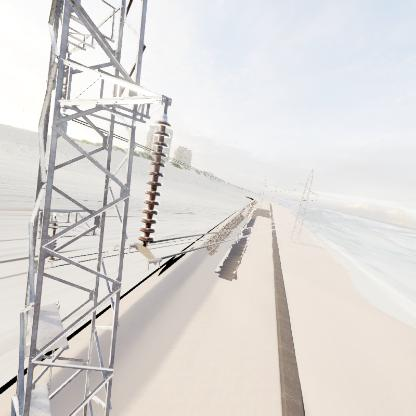insulator: (139, 116, 172, 250)
